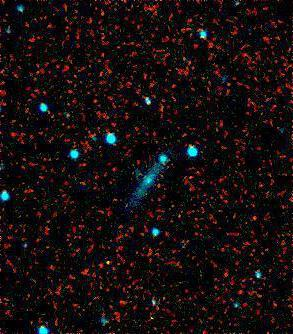star: (98, 245, 128, 275)
